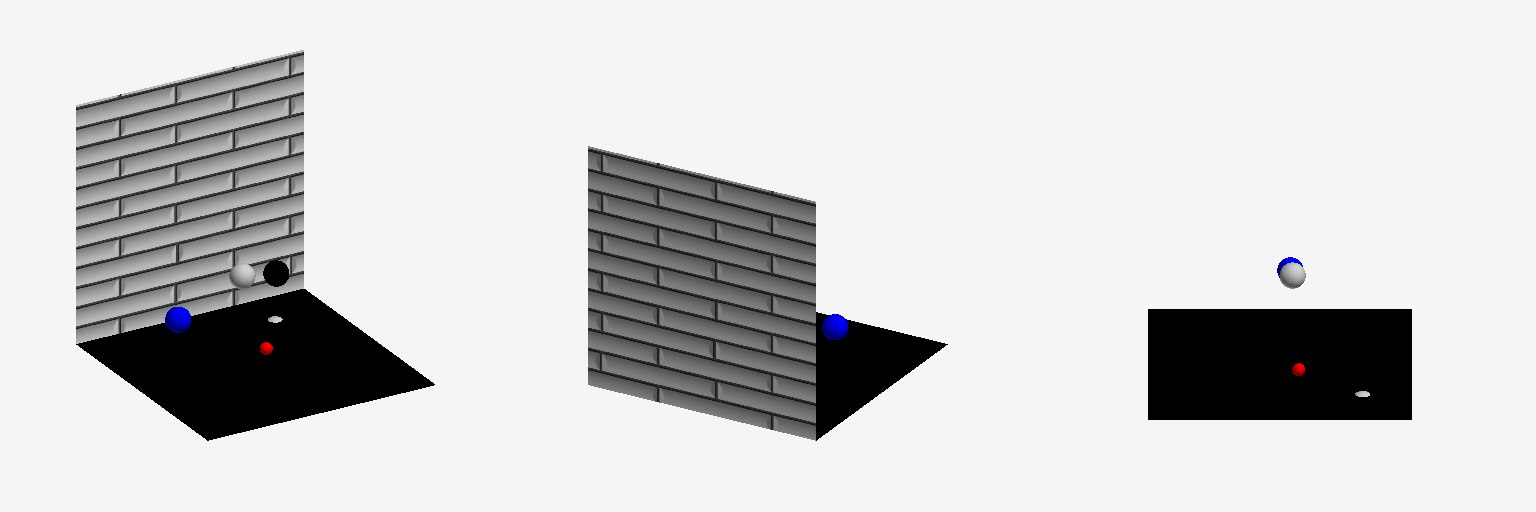
3 renders of one model, left to right at view 1: azimuth 30°, elevation 25°; view 2: azimuth 150°, elevation 25°; view 3: azimuth 270°, elevation 25°, orthographic.
Bounding box in the file's own units: 20 × 21.82 × 20.
Materials: 7 (1 with a texture image).